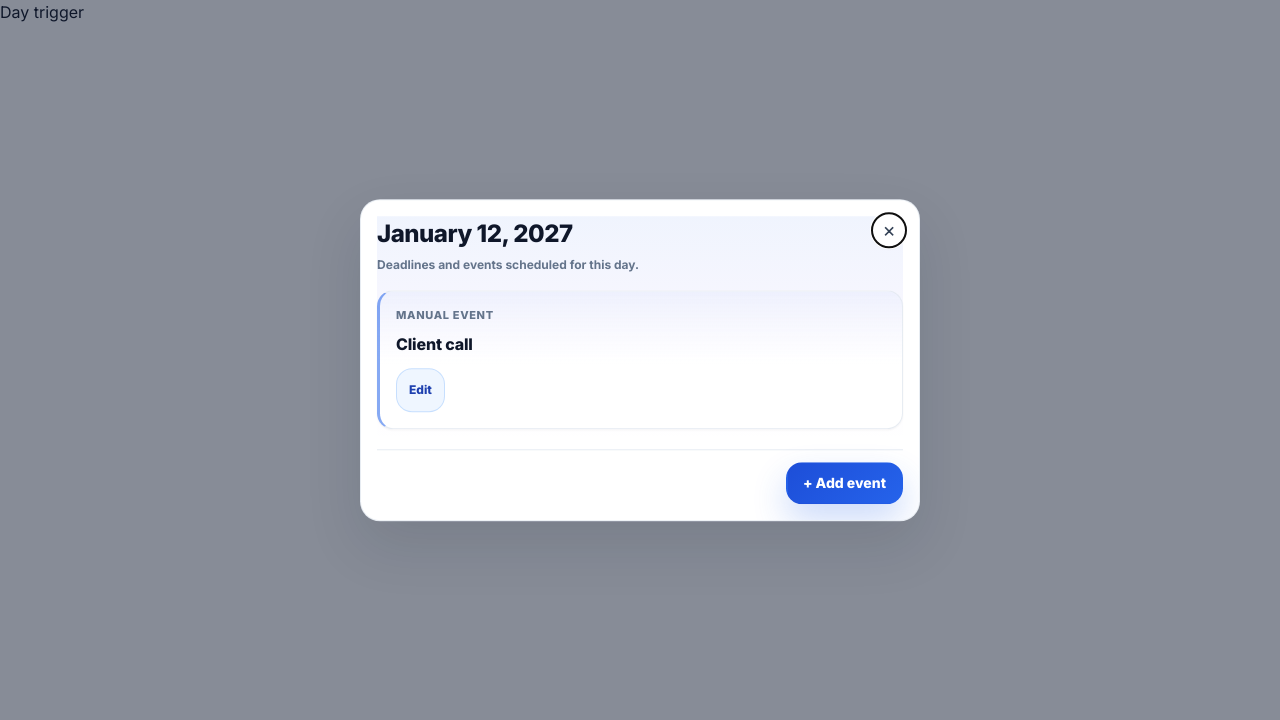
CalendarDayDialog — day-to-edit/create mode transition, single dialog instance › a single Escape from the edit view reached via day mode closes the dialog exactly once
The image size is (1280, 720).
Click the button with aria-label "Edit Client call" at [420, 390], box [396,368,445,412]
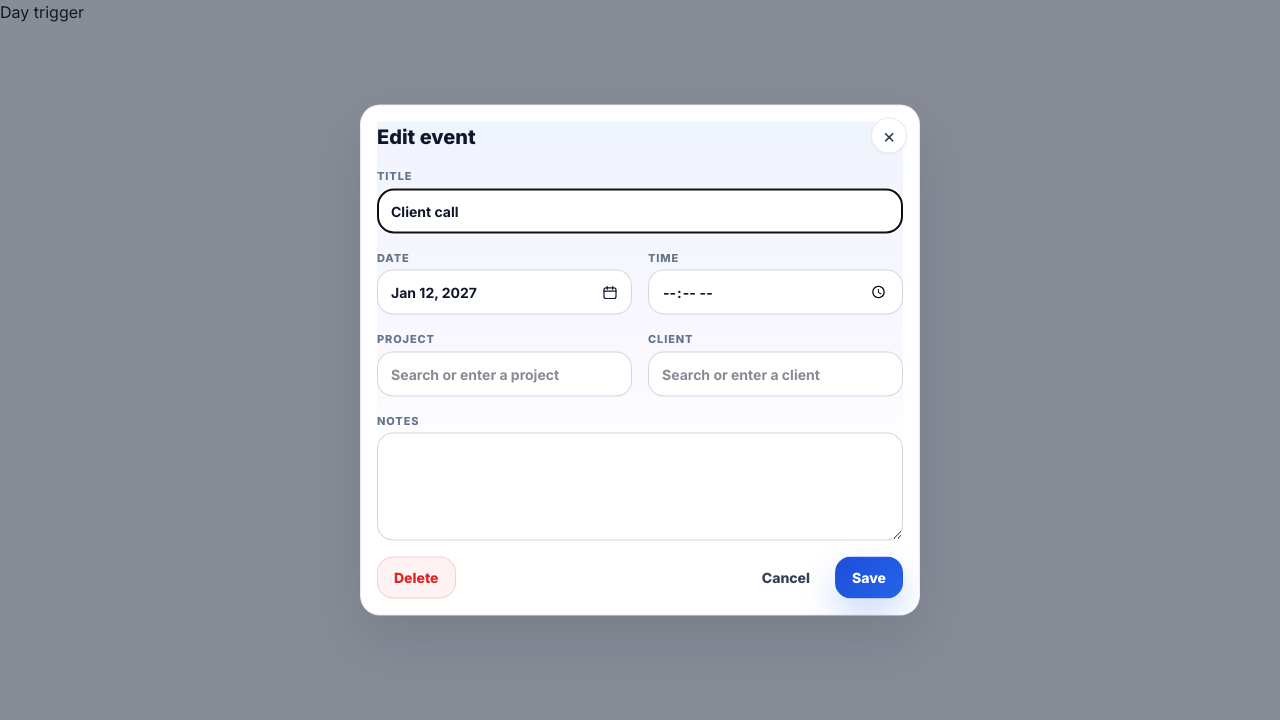
Press Escape
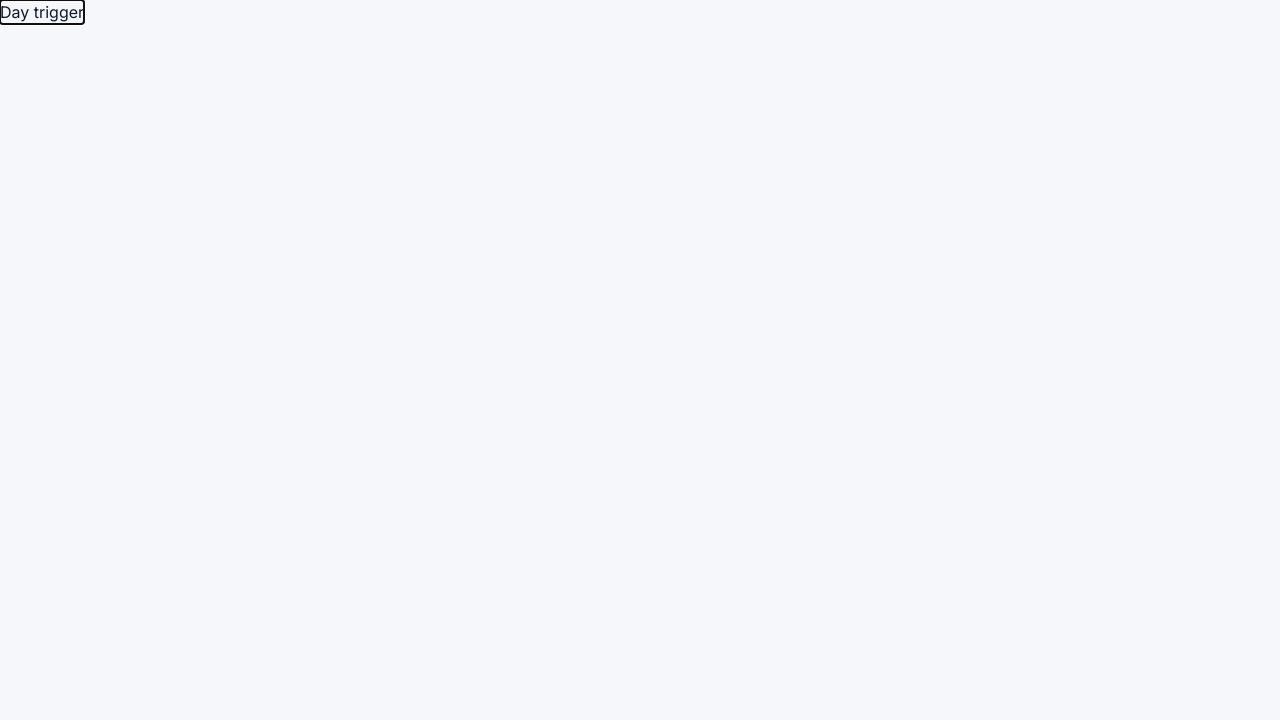
Check: the dialog is gone
